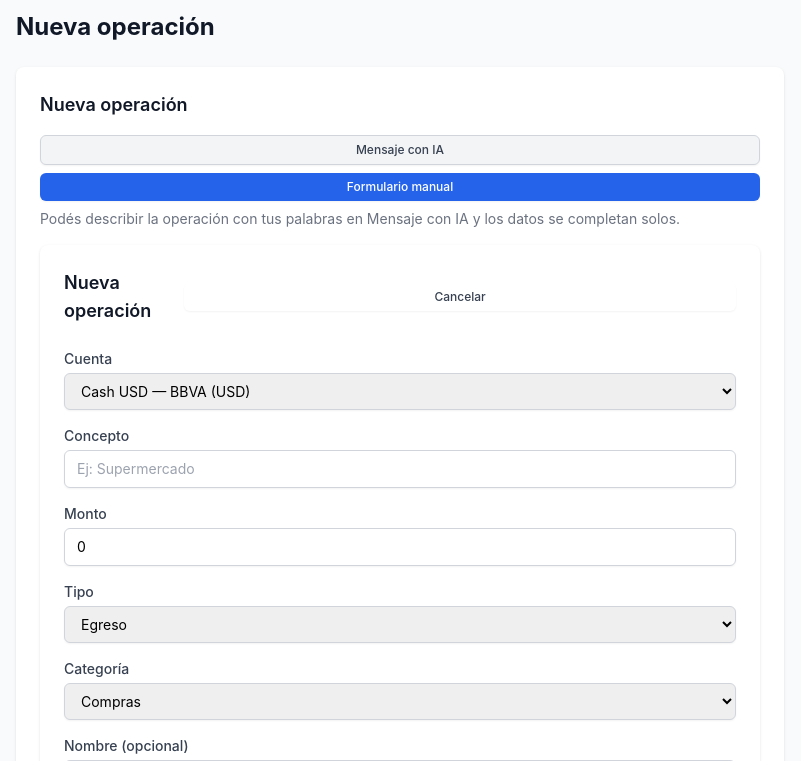
NewOperationPage (tabs IA / manual) › shows the manual form by default and allows switching to the IA tab
Check: the field labelled "Concepto" is shown, box [64,450,736,488]
Step 1. Click the button "Mensaje con IA" → x=400, y=150, box [40,135,760,165]
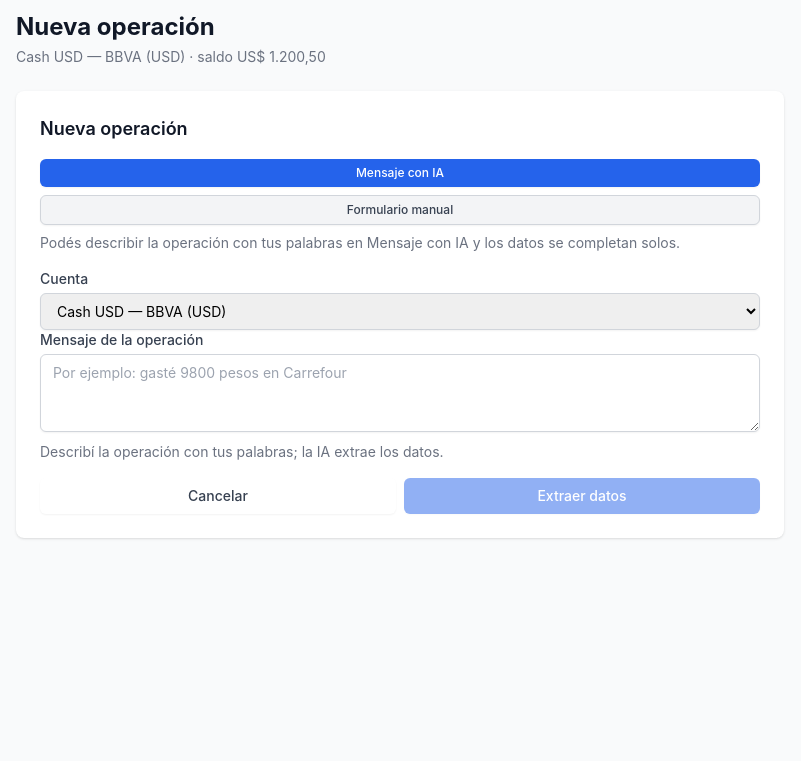
Check: the text box labelled "Mensaje de la operación" is shown, box [40,354,760,432]
Check: the label labelled "Concepto" is gone
Step 2. Click the button "Formulario manual" → x=400, y=210, box [40,195,760,225]
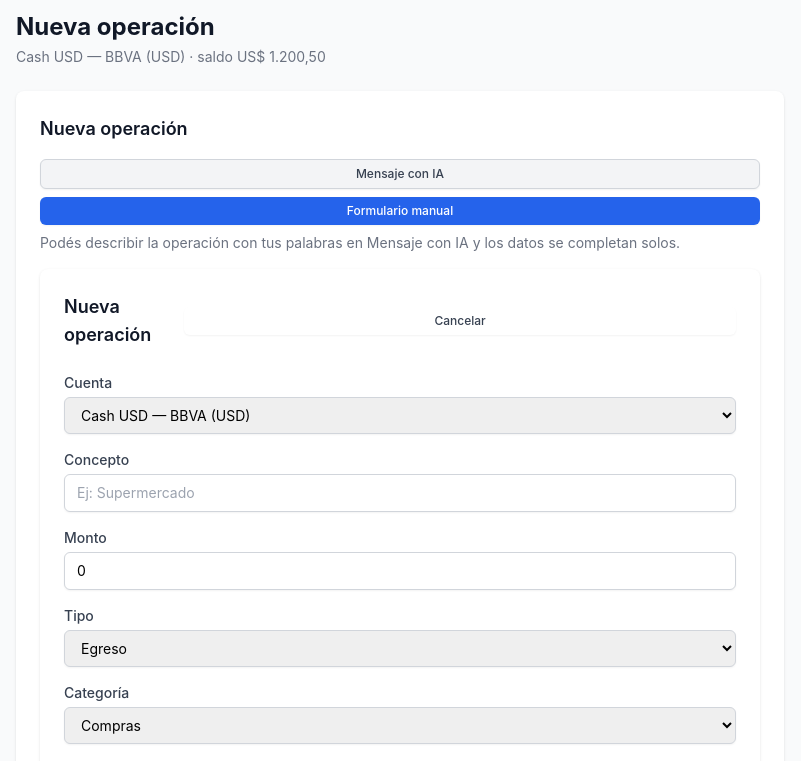
Check: the field labelled "Concepto" is shown, box [64,474,736,512]
